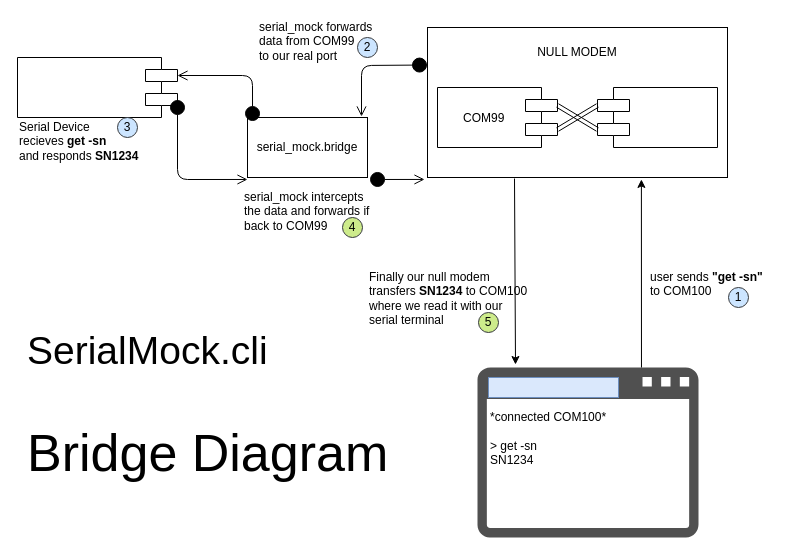
Image size: 796x554. Some labels were removed from this diagram. The centre of each missing label's shape, as x and y in pixels:
"COM100" belongs at point (657, 117).
"Serial Device (ie COM4)" belongs at point (97, 87).
"User Serial Terminal:" belongs at point (553, 387).
